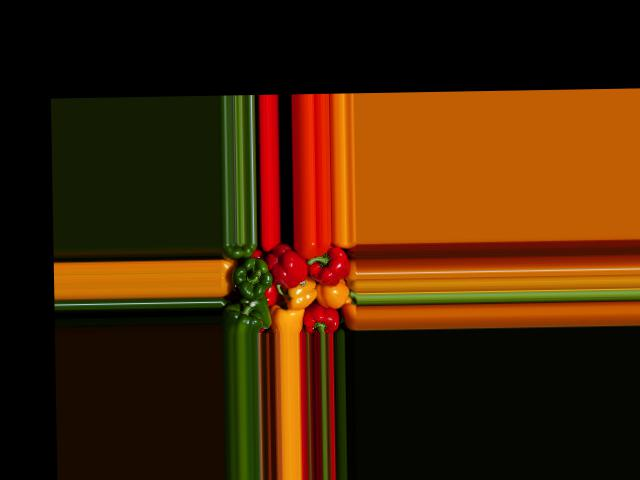bell_pepper: (220, 242, 257, 264)
